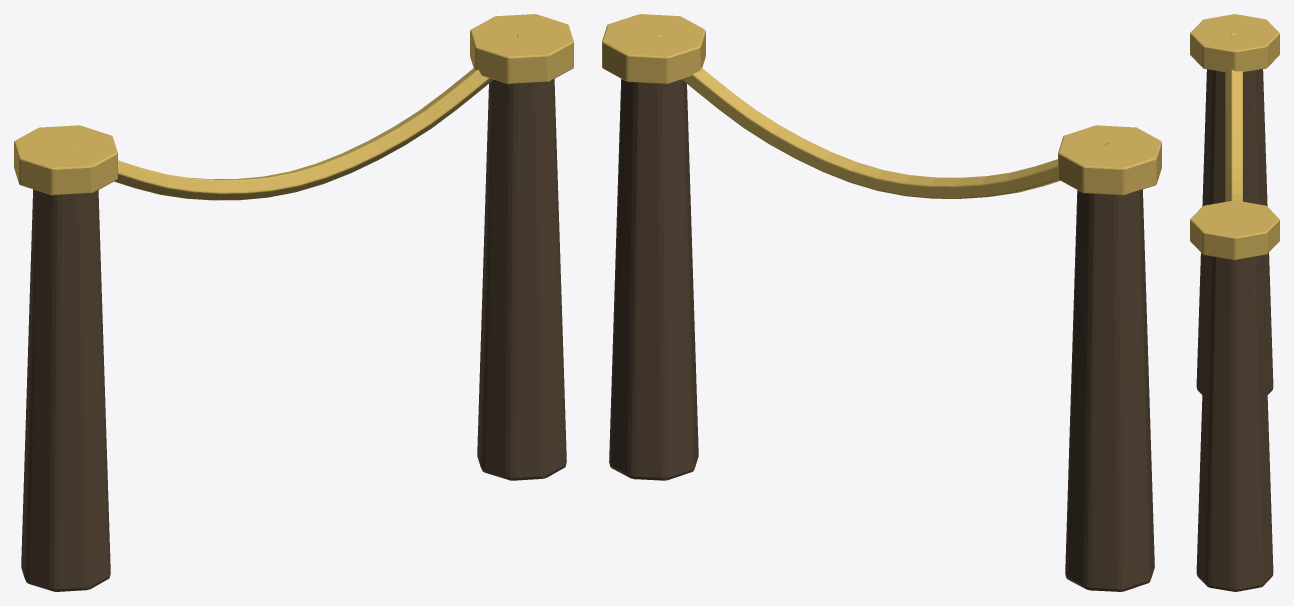
File: item_kit_zipline.glb
3 renders of one model, left to right at view 1: azimuth 30°, elevation 25°; view 2: azimuth 150°, elevation 25°; view 3: azimuth 270°, elevation 25°, orthographic. The views are drawn at different scales.
Parts seen in each view (by area): view 1: item_kit_zipline_part_0, item_kit_zipline_part_2, item_kit_zipline_part_4, item_kit_zipline_part_1, item_kit_zipline_part_3; view 2: item_kit_zipline_part_0, item_kit_zipline_part_2, item_kit_zipline_part_4, item_kit_zipline_part_1, item_kit_zipline_part_3; view 3: item_kit_zipline_part_2, item_kit_zipline_part_0, item_kit_zipline_part_3, item_kit_zipline_part_1, item_kit_zipline_part_4.
Part boxes in pixels (left/top/right/bottom): item_kit_zipline_part_0: left=21, top=189, right=110, bottom=591; item_kit_zipline_part_2: left=477, top=79, right=566, bottom=480; item_kit_zipline_part_4: left=71, top=35, right=520, bottom=200; item_kit_zipline_part_1: left=14, top=125, right=117, bottom=195; item_kit_zipline_part_3: left=470, top=14, right=573, bottom=84; item_kit_zipline_part_0: left=1065, top=189, right=1154, bottom=591; item_kit_zipline_part_2: left=609, top=79, right=698, bottom=480; item_kit_zipline_part_4: left=657, top=34, right=1108, bottom=198; item_kit_zipline_part_1: left=1058, top=125, right=1161, bottom=195; item_kit_zipline_part_3: left=602, top=14, right=705, bottom=84; item_kit_zipline_part_2: left=1196, top=255, right=1273, bottom=591; item_kit_zipline_part_0: left=1196, top=69, right=1273, bottom=394; item_kit_zipline_part_3: left=1190, top=200, right=1279, bottom=260; item_kit_zipline_part_1: left=1190, top=14, right=1279, bottom=72; item_kit_zipline_part_4: left=1225, top=33, right=1242, bottom=216.
Bounding box in the file's own units: 1.88 × 1.4 × 0.3175.
